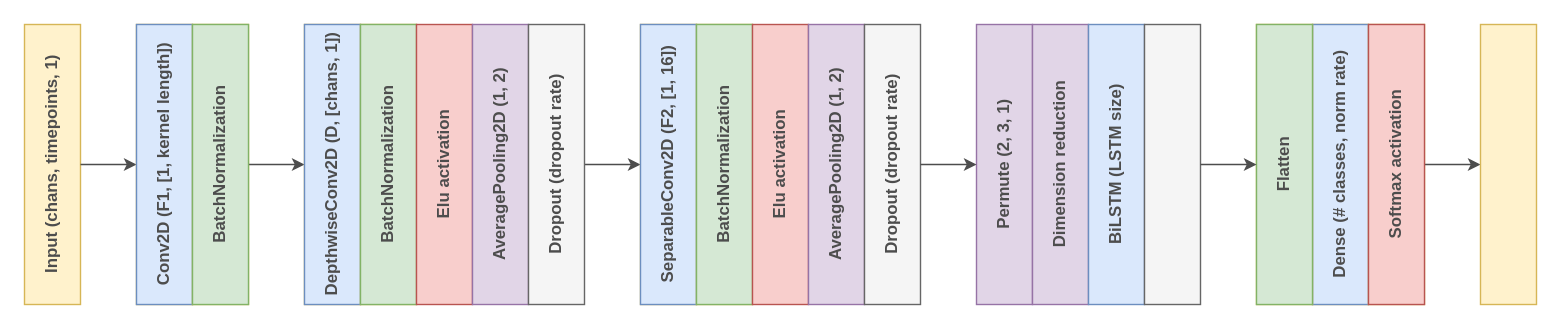
This 1561x329 diagram has some shape labels left out. The centre of each missing label's shape, as x and y in pixels:
"Class probabilities output" belongs at point (1507, 163).
"Dropout (LSTM dropout rate / 2)" belongs at point (1171, 163).
